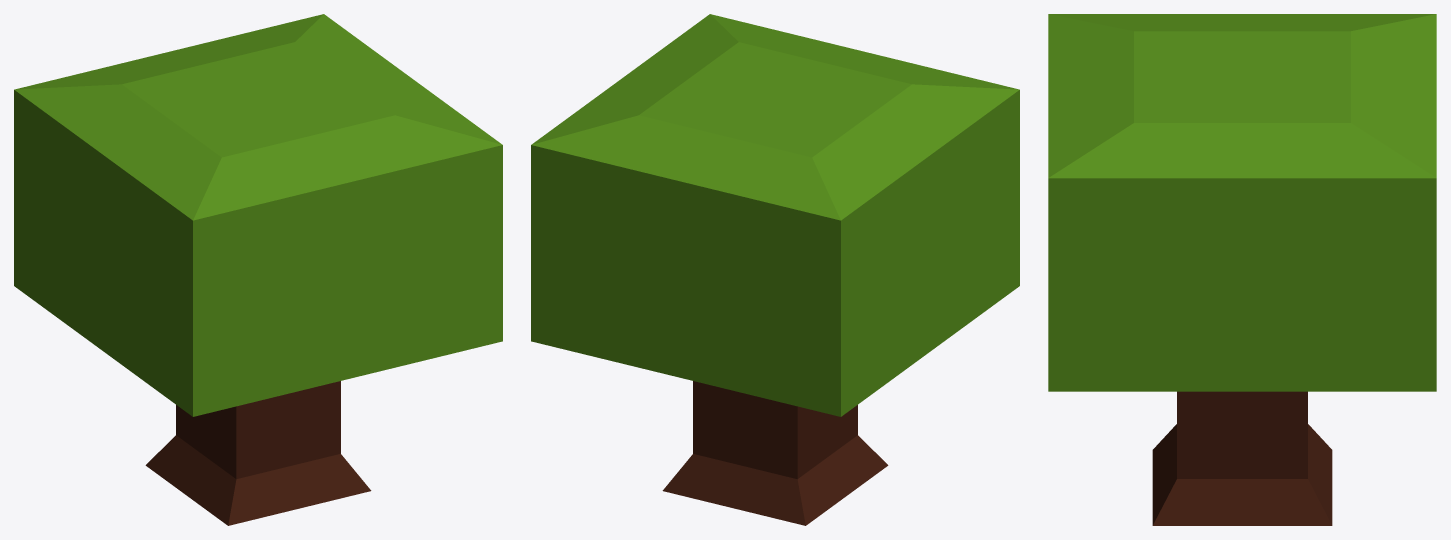
3 renders of one model, left to right at view 1: azimuth 30°, elevation 25°; view 2: azimuth 150°, elevation 25°; view 3: azimuth 270°, elevation 25°, orthographic. The views are drawn at different scales.
Visible parts, largest first — view 1: Arbol3; view 2: Arbol3; view 3: Arbol3.
Part boxes in pixels (x1,y1,x2,y2): Arbol3: (14, 14, 502, 525); Arbol3: (531, 14, 1019, 525); Arbol3: (1048, 14, 1436, 525).
Bounding box in the file's own units: 123 × 143 × 123.
